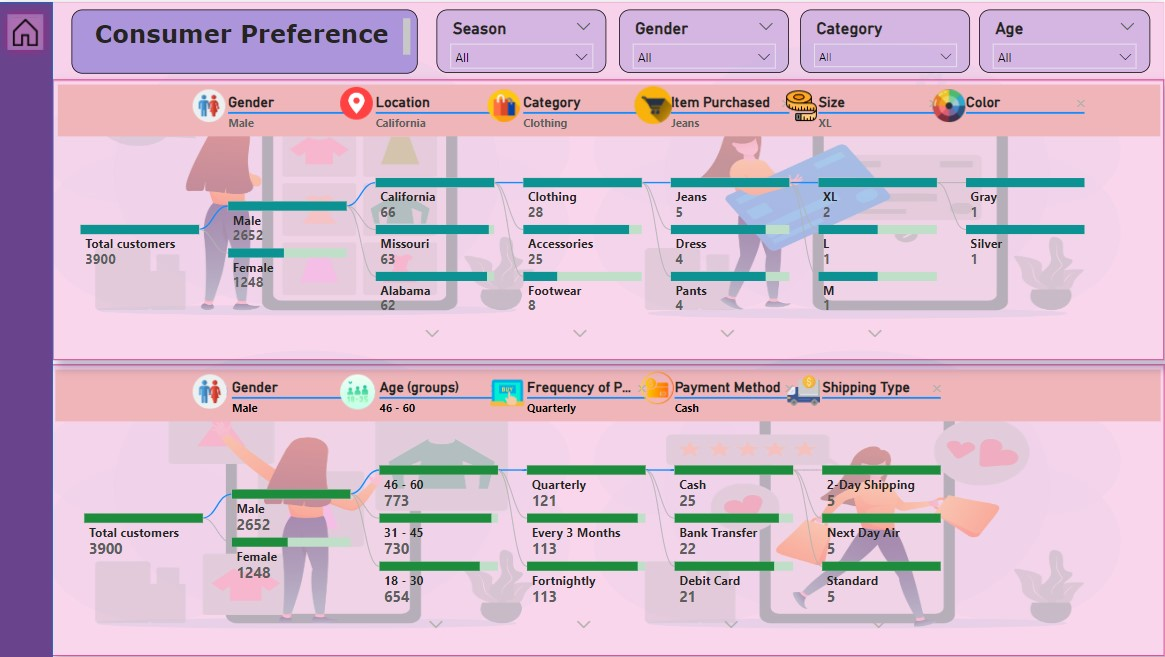

This screenshot's page, from the dashboard's own definition file:
{"tool":"powerbi","page":{"name":"Page 2","canvas":[1280,720],"ordinal":1},"visuals":[{"type":"shape","box":[0,0,1279.6,87.4],"z":0},{"type":"textbox","box":[80,8,380,70],"z":1000},{"type":"slicer","fields":{"Values":["shopping_trends_updated.Season"]},"box":[480.3,8.2,186.6,70],"z":2000},{"type":"slicer","fields":{"Values":["shopping_trends_updated.Gender"]},"box":[680.6,8.2,186.6,70],"z":3000},{"type":"slicer","fields":{"Values":["Product.Category","Product.Item Purchased"]},"box":[879.6,8.2,186.6,70],"z":4000},{"type":"slicer","fields":{"Values":["shopping_trends_updated.Age (groups)"]},"box":[1075.8,8.2,188,70],"z":5000},{"type":"decompositionTreeVisual","fields":{"Analyze":["shopping_trends_updated.Total customers"],"ExplainBy":["shopping_trends_updated.Gender","shopping_trends_updated.Age (groups)","sales.Frequency of Purchases","sales.Payment Method","sales.Shipping Type"]},"box":[56.1,397.6,1223.4,320.3],"z":6000},{"type":"decompositionTreeVisual","fields":{"Analyze":["shopping_trends_updated.Total customers"],"ExplainBy":["shopping_trends_updated.Gender","shopping_trends_updated.Location","Product.Category","Product.Item Purchased","Product.Size","Product.Color"]},"box":[59.6,85.6,1220.2,307.8],"z":7000},{"type":"actionButton","box":[208.6,91.9,54.9,43.9],"z":8000},{"type":"actionButton","box":[208.4,404.3,53.4,46],"z":9000},{"type":"actionButton","box":[370.5,89.2,53.5,43.9],"z":10000},{"type":"shape","box":[0,0,59,720.4],"z":11000},{"type":"actionButton","box":[693,87.8,53.5,50.8],"z":12000},{"type":"actionButton","box":[859,91.9,53.5,43.9],"z":13000},{"type":"actionButton","box":[532.4,91.9,53.5,43.9],"z":14000},{"type":"actionButton","box":[370.7,404.1,53.6,46.4],"z":15000},{"type":"actionButton","box":[534.7,405.8,53.4,46],"z":16000},{"type":"actionButton","box":[699.3,401.3,48.9,46],"z":17000},{"type":"actionButton","box":[860.9,402.8,53.4,46],"z":18000},{"type":"actionButton","box":[1.3,5.4,55.1,55.1],"z":20000},{"type":"actionButton","box":[1020.8,91.4,47.6,44],"z":21000}]}

Visuals, with their boxes in screenshot pixels (x1, y1, x2, y2), scaled from the page's 1280x720 canvas onto the 1165x657 screenshot:
shape: <box>0,0,1164,80</box>
textbox: <box>73,7,419,71</box>
slicer - shopping_trends_updated.Season: <box>437,7,607,71</box>
slicer - shopping_trends_updated.Gender: <box>619,7,789,71</box>
slicer - Product.Category x Product.Item Purchased: <box>801,7,970,71</box>
slicer - shopping_trends_updated.Age (groups): <box>979,7,1150,71</box>
decompositionTreeVisual - shopping_trends_updated.Total customers x shopping_trends_updated.Gender: <box>51,363,1164,655</box>
decompositionTreeVisual - shopping_trends_updated.Total customers x shopping_trends_updated.Gender: <box>54,78,1164,359</box>
actionButton: <box>190,84,240,124</box>
actionButton: <box>190,369,238,411</box>
actionButton: <box>337,81,386,121</box>
shape: <box>0,0,54,656</box>
actionButton: <box>631,80,679,126</box>
actionButton: <box>782,84,831,124</box>
actionButton: <box>485,84,533,124</box>
actionButton: <box>337,369,386,411</box>
actionButton: <box>487,370,535,412</box>
actionButton: <box>636,366,681,408</box>
actionButton: <box>784,368,832,410</box>
actionButton: <box>1,5,51,55</box>
actionButton: <box>929,83,972,124</box>
